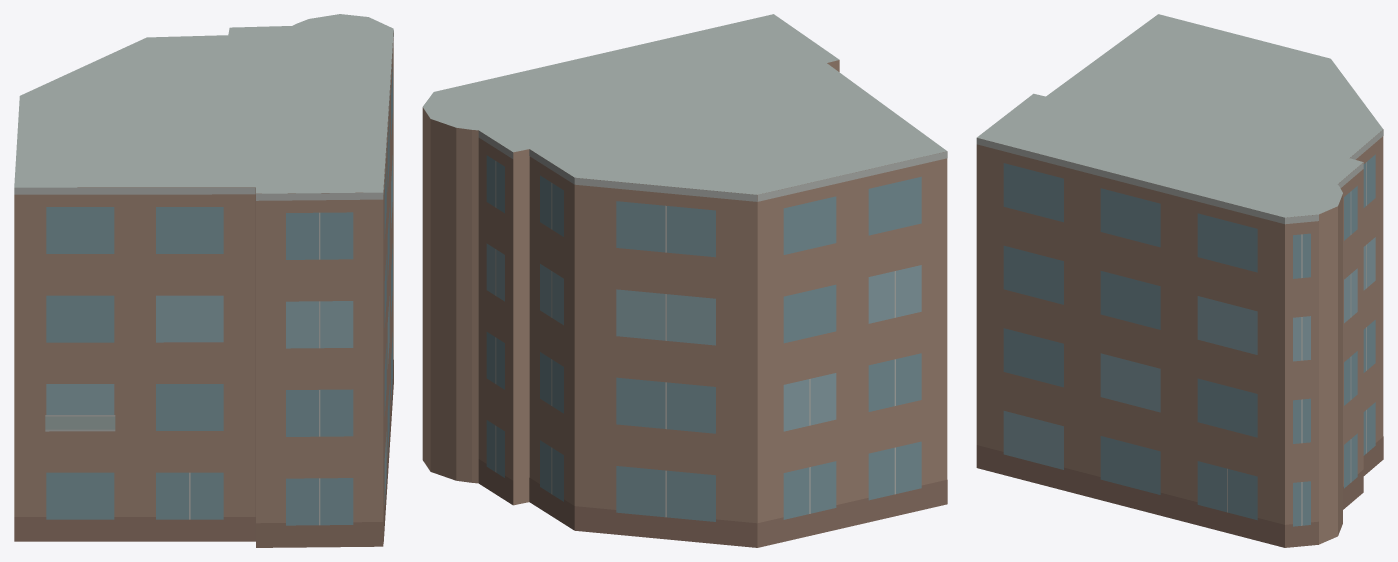
Rendered from survey-upis-32993189.glb.
3 views of the same model, side by side, from view 1: azimuth 30°, elevation 25°; view 2: azimuth 150°, elevation 25°; view 3: azimuth 270°, elevation 25° (orthographic). The views are drawn at different scales.
Parts seen in each view (by area): view 1: survey-upis-32993189.tmp; view 2: survey-upis-32993189.tmp; view 3: survey-upis-32993189.tmp.
Part boxes in pixels (left/top/right/bottom): survey-upis-32993189.tmp: left=14, top=14, right=393, bottom=547; survey-upis-32993189.tmp: left=422, top=14, right=947, bottom=547; survey-upis-32993189.tmp: left=976, top=14, right=1383, bottom=547.
Size of the model in its own units: 16.14 by 12.2 by 13.63.
